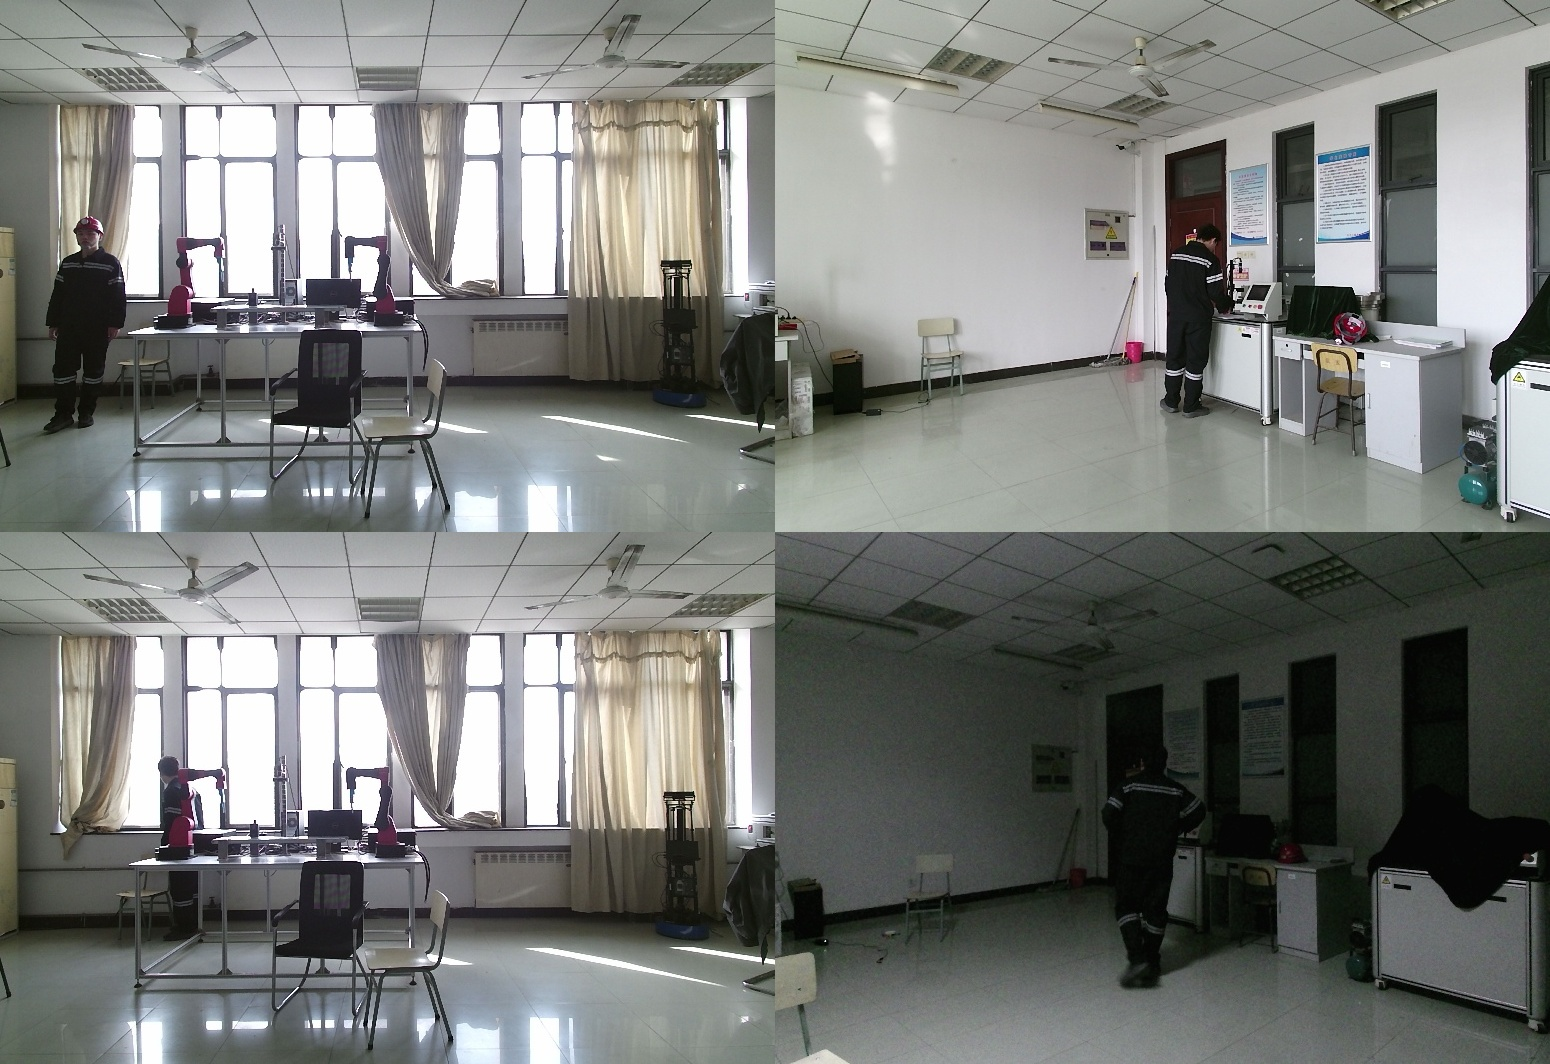person: (1105, 742, 1213, 995), (40, 215, 127, 433), (1155, 223, 1237, 426), (155, 754, 208, 946)
